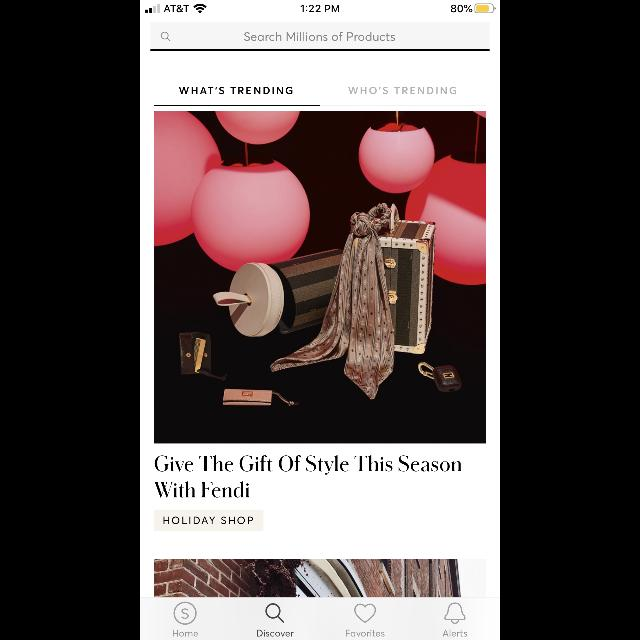icon: (444, 602, 466, 624), (354, 604, 376, 622), (266, 603, 284, 623), (162, 32, 170, 42)
image: (154, 111, 486, 443), (154, 559, 486, 597), (174, 602, 196, 624)
input: (150, 22, 490, 52)
text: (154, 456, 462, 498), (244, 32, 396, 42), (179, 87, 293, 95), (348, 87, 456, 95), (256, 630, 294, 636), (346, 630, 384, 636), (174, 630, 198, 636), (443, 630, 467, 636)
textbutton: (154, 509, 264, 531)
uppertaskbar: (140, 0, 500, 14)
